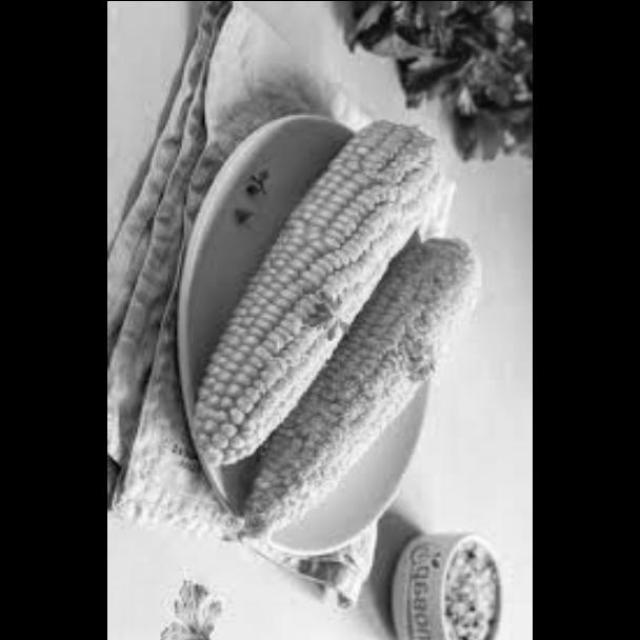cereal: (196, 119, 446, 462), (236, 232, 484, 543)
